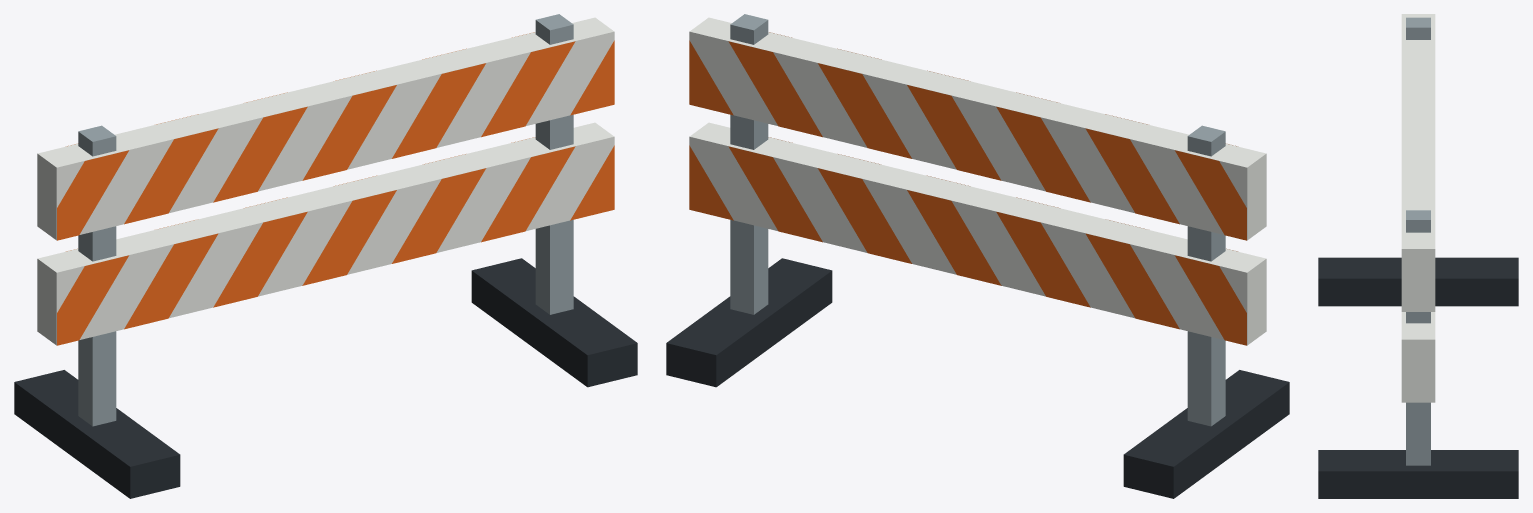
The model's file is valla-obra.glb.
The picture shows the model from 3 angles, left to right: view 1: azimuth 30°, elevation 25°; view 2: azimuth 150°, elevation 25°; view 3: azimuth 270°, elevation 25°; orthographic projection. The views are drawn at different scales.
Parts seen in each view (by area): view 1: Valla_tablero.001, Valla_tablero, Valla_pie, Valla_pie.001, Valla_pata, Valla_pata.001, Valla_franja_naranja.016, Valla_franja_naranja.003, Valla_franja_naranja.017, Valla_franja_naranja.002, Valla_franja_naranja.004, Valla_franja_naranja.015 (+8 smaller); view 2: Valla_tablero.001, Valla_tablero, Valla_pie, Valla_pie.001, Valla_pata, Valla_pata.001, Valla_franja_naranja.023, Valla_franja_naranja.010, Valla_franja_naranja.024, Valla_franja_naranja.009, Valla_franja_naranja.011, Valla_franja_naranja.022 (+8 smaller); view 3: Valla_pie.001, Valla_tablero.001, Valla_pie, Valla_tablero, Valla_pata.001, Valla_pata.
Boxes of the visible parts, box(x1,y1,x2,y2) form: Valla_tablero.001: box(37, 17, 614, 240); Valla_tablero: box(37, 122, 614, 345); Valla_pie: box(14, 370, 180, 498); Valla_pie.001: box(471, 258, 637, 387); Valla_pata: box(78, 125, 116, 426); Valla_pata.001: box(535, 14, 573, 314); Valla_franja_naranja.016: box(213, 106, 307, 202); Valla_franja_naranja.003: box(302, 190, 396, 285); Valla_franja_naranja.017: box(302, 85, 396, 180); Valla_franja_naranja.002: box(213, 211, 307, 307); Valla_franja_naranja.004: box(392, 168, 486, 263); Valla_franja_naranja.015: box(124, 128, 218, 224); Valla_tablero.001: box(689, 17, 1266, 240); Valla_tablero: box(689, 122, 1266, 345); Valla_pie: box(1123, 370, 1289, 498); Valla_pie.001: box(666, 258, 832, 387); Valla_pata: box(1187, 125, 1225, 426); Valla_pata.001: box(730, 14, 768, 314); Valla_franja_naranja.023: box(996, 106, 1090, 202); Valla_franja_naranja.010: box(907, 190, 1001, 285); Valla_franja_naranja.024: box(907, 85, 1001, 180); Valla_franja_naranja.009: box(996, 211, 1090, 307); Valla_franja_naranja.011: box(817, 168, 911, 263); Valla_franja_naranja.022: box(1085, 128, 1179, 224); Valla_pie.001: box(1318, 450, 1518, 498); Valla_tablero.001: box(1401, 14, 1435, 311); Valla_pie: box(1318, 257, 1518, 306); Valla_tablero: box(1401, 312, 1435, 402); Valla_pata.001: box(1406, 210, 1430, 465); Valla_pata: box(1406, 17, 1430, 39).
Bounding box in the file's own units: 2 × 1.08 × 0.72.
